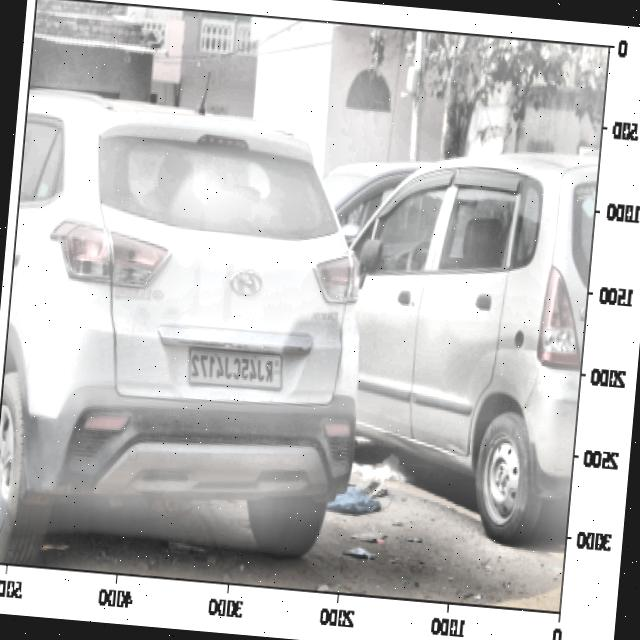license_plate: (184, 344, 278, 393)
